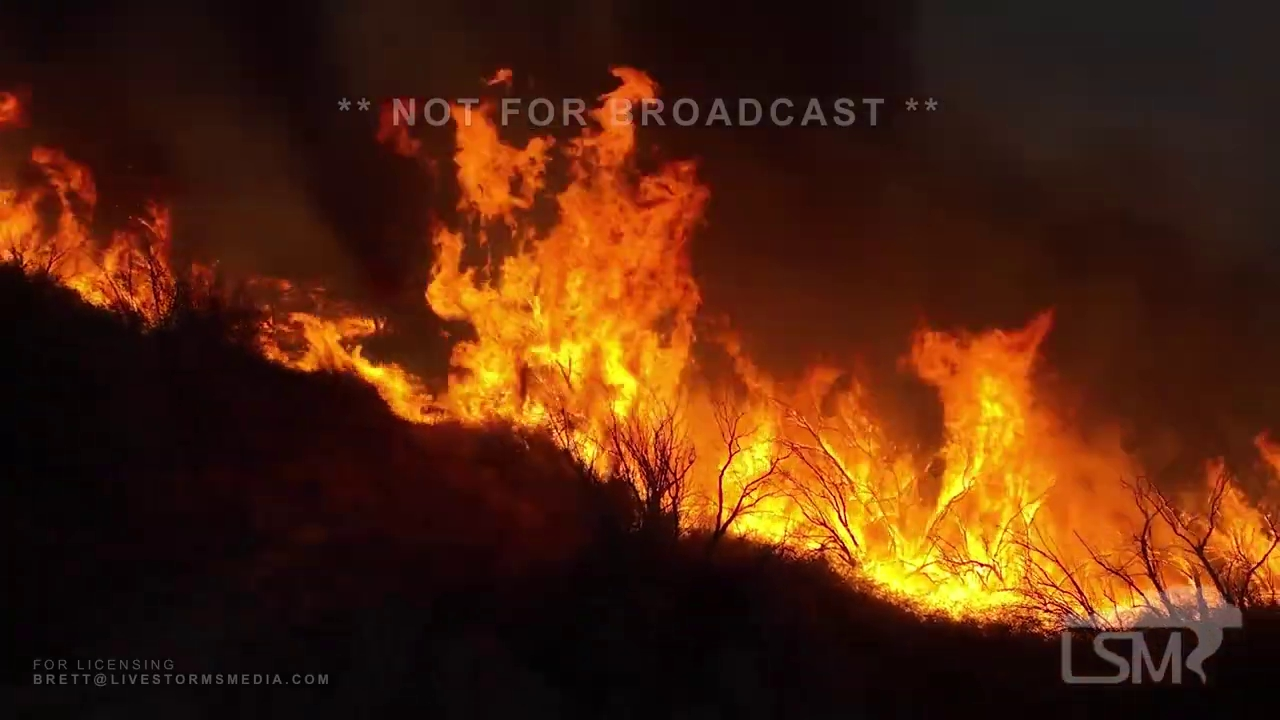forest_fire: (247, 68, 1279, 626), (0, 148, 221, 323), (377, 108, 419, 155), (1256, 434, 1279, 486), (0, 94, 22, 123), (505, 73, 509, 76), (407, 121, 410, 123)
